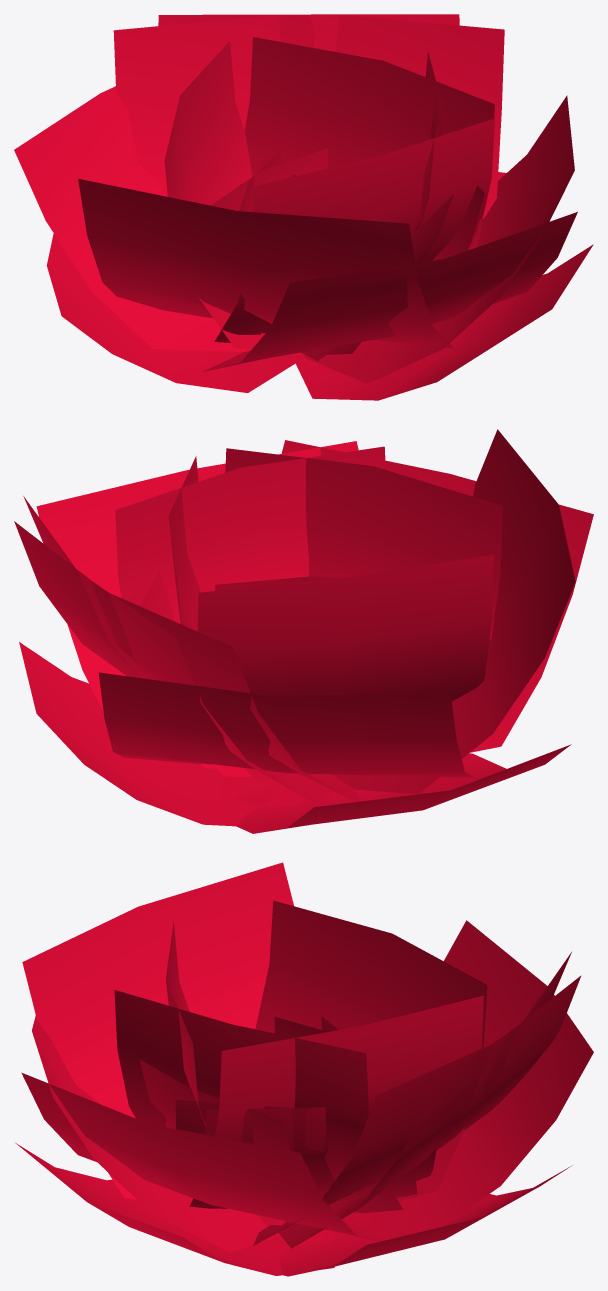
File: flower_rose.fbx
3 renders of one model, top to bottom at view 1: azimuth 30°, elevation 25°; view 2: azimuth 150°, elevation 25°; view 3: azimuth 270°, elevation 25°, orthographic. The views are drawn at different scales.
Visible parts, largest first — view 1: flower_rose2; view 2: flower_rose2; view 3: flower_rose2.
Part boxes in pixels (box(x1,y1,x2,y2)): flower_rose2: box(14, 14, 593, 400); flower_rose2: box(14, 429, 593, 833); flower_rose2: box(15, 862, 593, 1276).
Size of the model in its own units: 5.43 by 2.37 by 5.35.
